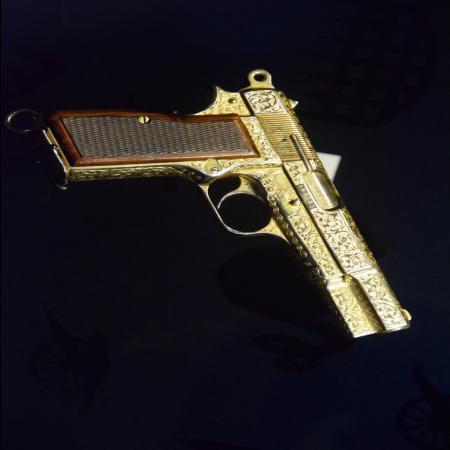Pistol: (39, 61, 417, 335)
